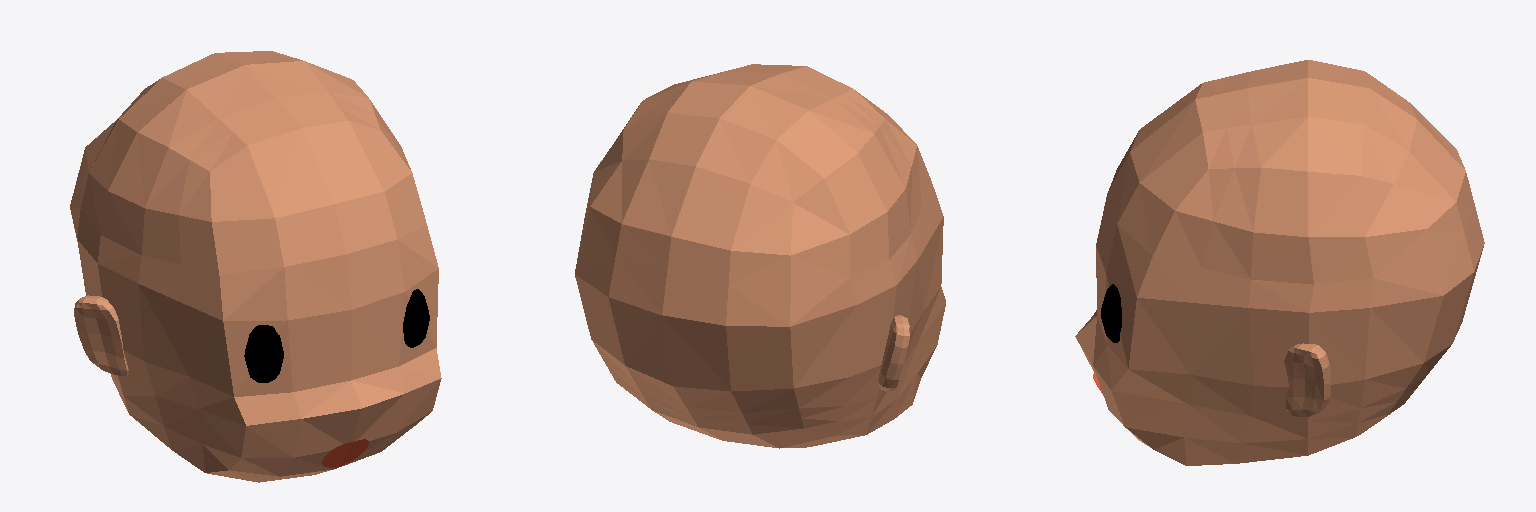
Rendered from Umatchii_Normal_Mouth_v2.obj.
3 views of the same model, side by side, from view 1: azimuth 30°, elevation 25°; view 2: azimuth 150°, elevation 25°; view 3: azimuth 270°, elevation 25° (orthographic).
Visible parts, largest first — view 1: Combined; view 2: Combined; view 3: Combined.
Boxes of the visible parts, x1,y1,x2,y2 form: Combined: [70, 51, 441, 482]; Combined: [575, 64, 945, 448]; Combined: [1075, 60, 1484, 465].
Bounding box in the file's own units: 9.41 × 10.02 × 10.33.